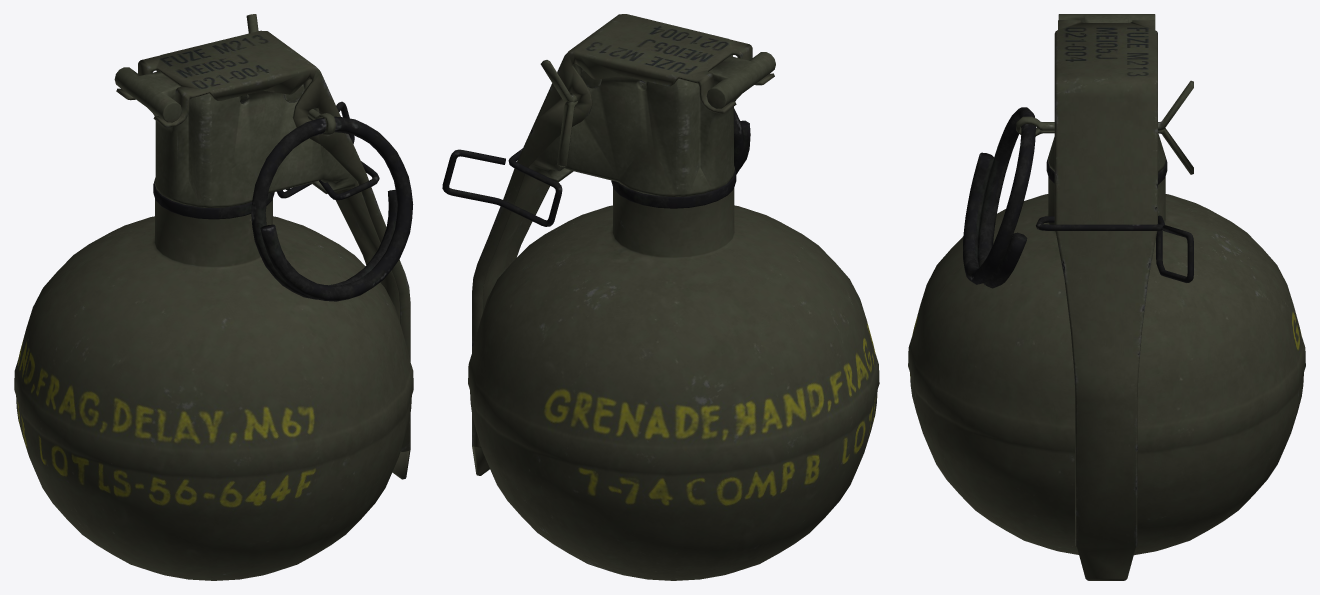
Rendered from Granede.fbx.
3 renders of one model, left to right at view 1: azimuth 30°, elevation 25°; view 2: azimuth 150°, elevation 25°; view 3: azimuth 270°, elevation 25°, orthographic. The views are drawn at different scales.
Parts seen in each view (by area): view 1: SM_M67Body_0, SM_M67Spoon_0, SM_M67PinRing_0, SM_M67SpoonHolder_0, SM_M67Pin_0; view 2: SM_M67Body_0, SM_M67Spoon_0, SM_M67SpoonHolder_0, SM_M67Pin_0, SM_M67PinRing_0; view 3: SM_M67Body_0, SM_M67Spoon_0, SM_M67PinRing_0, SM_M67SpoonHolder_0, SM_M67Pin_0.
Boxes of the visible parts, left/top/right/bottom form: SM_M67Body_0: left=14, top=67, right=413, bottom=580; SM_M67Spoon_0: left=116, top=30, right=410, bottom=479; SM_M67PinRing_0: left=251, top=116, right=413, bottom=301; SM_M67SpoonHolder_0: left=276, top=101, right=379, bottom=200; SM_M67Pin_0: left=246, top=14, right=336, bottom=136; SM_M67Body_0: left=468, top=52, right=879, bottom=580; SM_M67Spoon_0: left=472, top=14, right=774, bottom=475; SM_M67SpoonHolder_0: left=442, top=148, right=562, bottom=226; SM_M67Pin_0: left=540, top=60, right=577, bottom=166; SM_M67PinRing_0: left=734, top=108, right=750, bottom=174; SM_M67Body_0: left=908, top=14, right=1305, bottom=555; SM_M67Spoon_0: left=1054, top=20, right=1157, bottom=580; SM_M67PinRing_0: left=963, top=107, right=1035, bottom=288; SM_M67SpoonHolder_0: left=1036, top=215, right=1193, bottom=282; SM_M67Pin_0: left=1016, top=80, right=1193, bottom=174.
Bounding box in the file's own units: 11.87 × 15.85 × 11.56.
